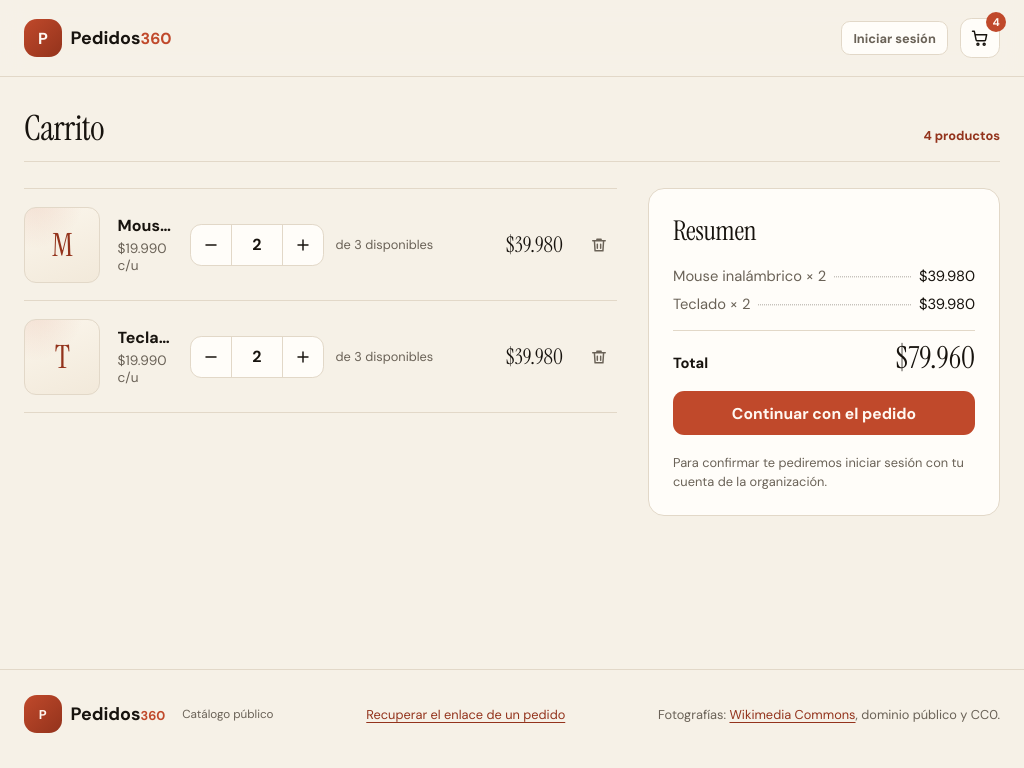
Test: CartPage › quita un producto del carrito
The width and height of the screenshot is (1024, 768).
Step 1. Click the button named "Quitar Mouse inalámbrico del carrito" → [599, 245], box [580,226,617,263]
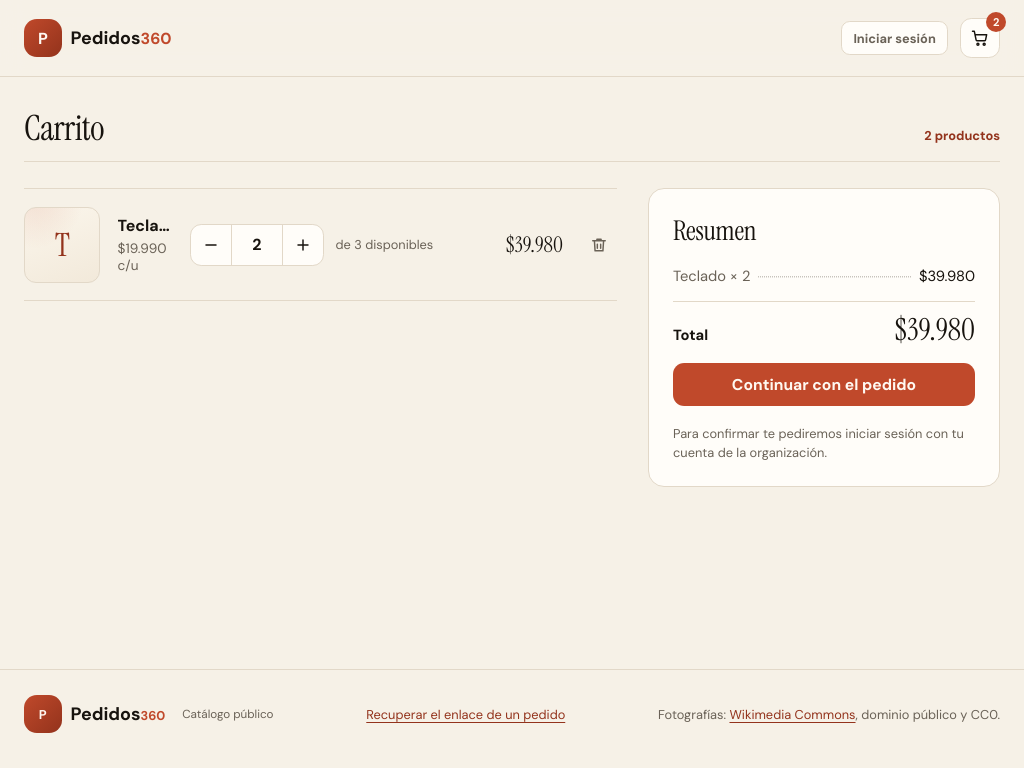
Check: the list item "Teclado" is shown, box [24,189,617,301]
Check: the link "Mouse inalámbrico" is gone
